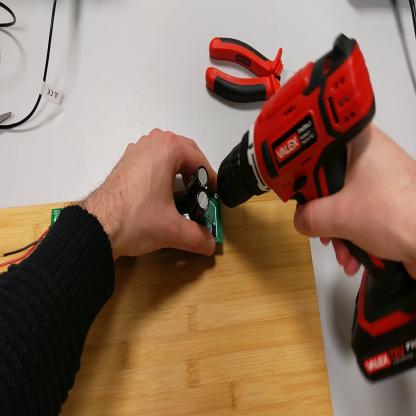electric screwdriver: (217, 36, 416, 390)
hand: (293, 119, 415, 279), (103, 128, 222, 262)
high voltage board: (1, 167, 225, 270)
pliers: (203, 34, 300, 111)
working area: (1, 192, 335, 416)
